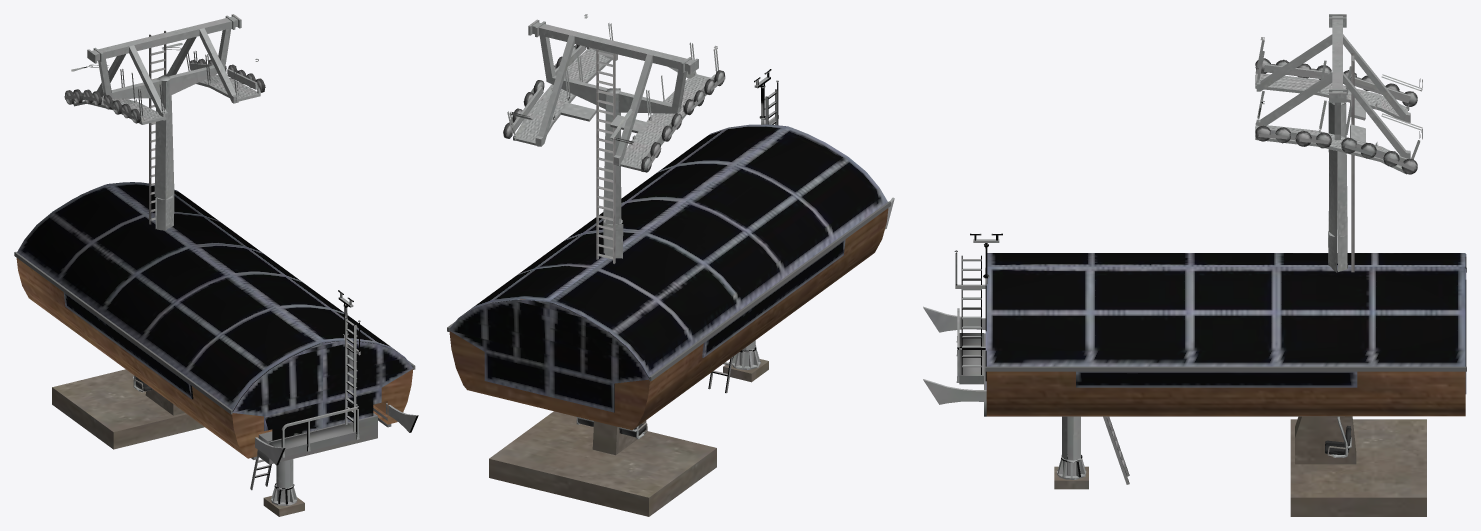
Rendered from lift.glb.
3 renders of one model, left to right at view 1: azimuth 30°, elevation 25°; view 2: azimuth 150°, elevation 25°; view 3: azimuth 270°, elevation 25°, orthographic. The views are drawn at different scales.
Visible parts, largest first — view 1: station, tower, tower_lo; view 2: station, tower, tower_lo; view 3: station, tower, tower_lo.
Part boxes in pixels (x1,y1,x2,y2): station: (14, 182, 418, 516); tower: (64, 14, 265, 230); tower_lo: (64, 17, 265, 230); station: (447, 69, 894, 516); tower: (503, 14, 725, 263); tower_lo: (503, 22, 725, 263); station: (923, 233, 1466, 516); tower: (1255, 14, 1422, 272); tower_lo: (1255, 15, 1417, 272).
Size of the model in its own units: 7.57 by 15.12 by 17.38.
Materials: 1 (1 with a texture image).
